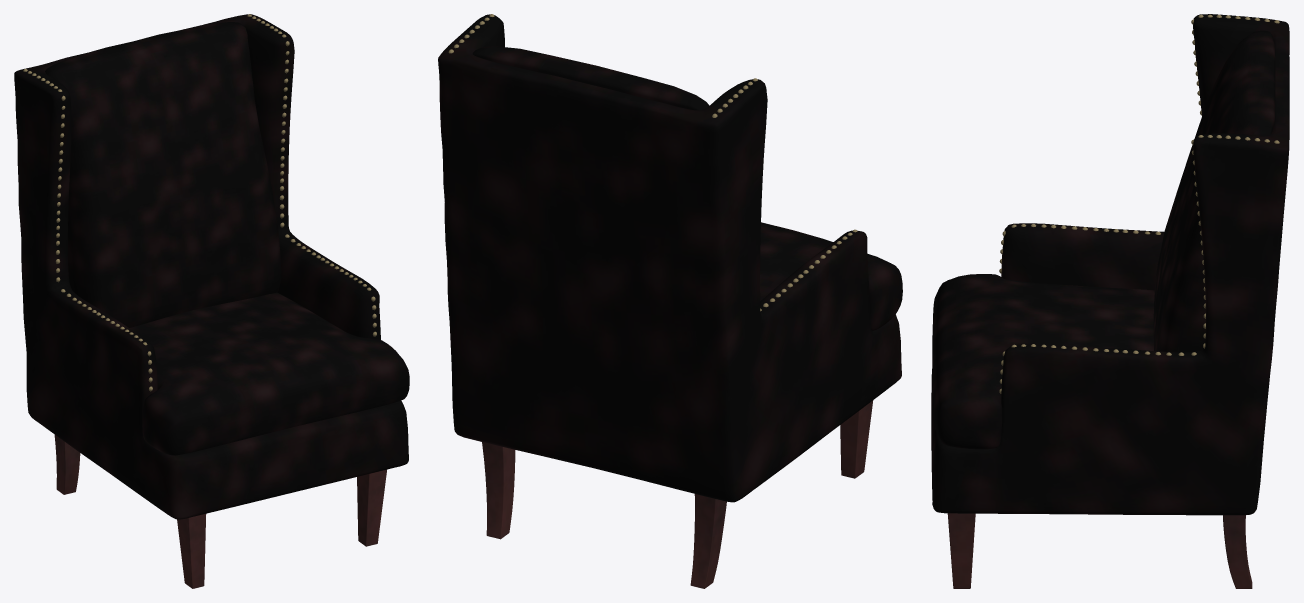
The model's file is office_chair_B07DBDZ3WW.glb.
3 views of the same model, side by side, from view 1: azimuth 30°, elevation 25°; view 2: azimuth 150°, elevation 25°; view 3: azimuth 270°, elevation 25° (orthographic). The views are drawn at different scales.
Visible parts, largest first — view 1: RootNode; view 2: RootNode; view 3: RootNode.
Boxes of the visible parts, box(x1,y1,x2,y2) form: RootNode: box(14, 14, 409, 588); RootNode: box(438, 14, 902, 588); RootNode: box(931, 14, 1289, 588).
Size of the model in its own units: 0.7031 by 1.14 by 0.7994.
Materials: 1 (1 with a texture image).
